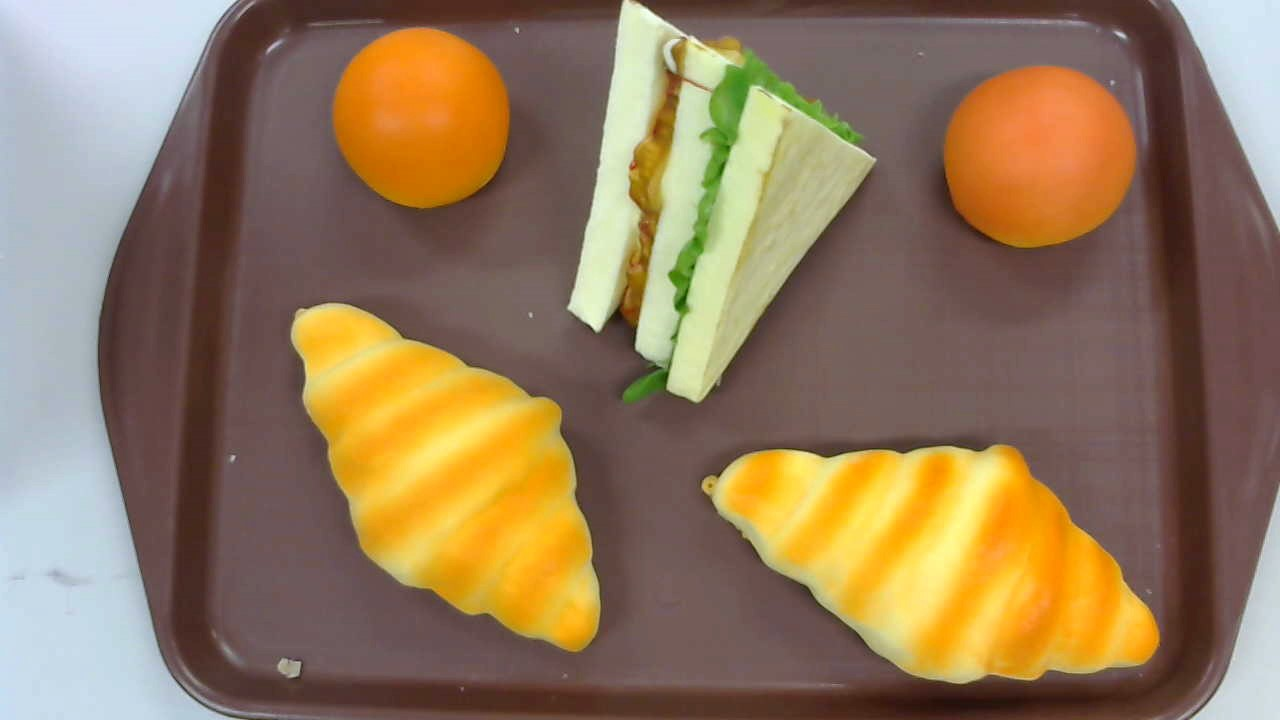bun: (942, 64, 1137, 248), (332, 28, 510, 209)
croissant: (701, 444, 1160, 682), (291, 302, 602, 653)
sandwich: (565, 1, 876, 403)
